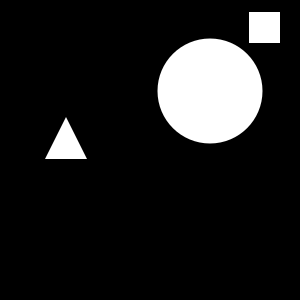circle: (249, 12, 280, 43)
rectangle: (157, 39, 262, 144)
triangle: (45, 117, 87, 159)
